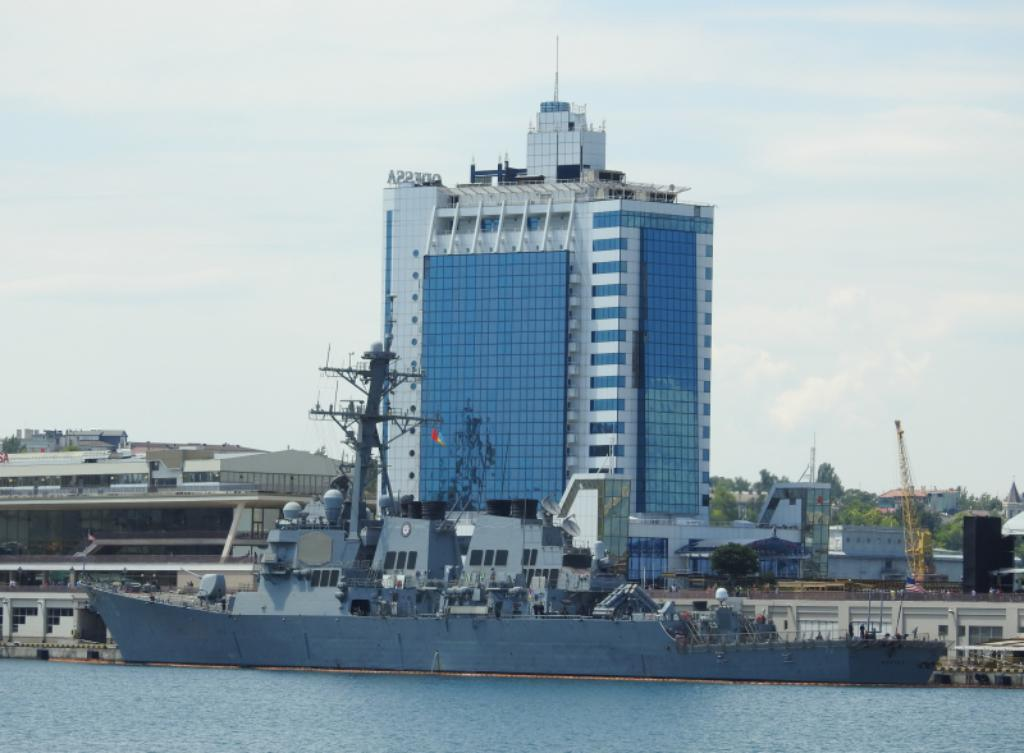Warship: (80, 319, 954, 693)
